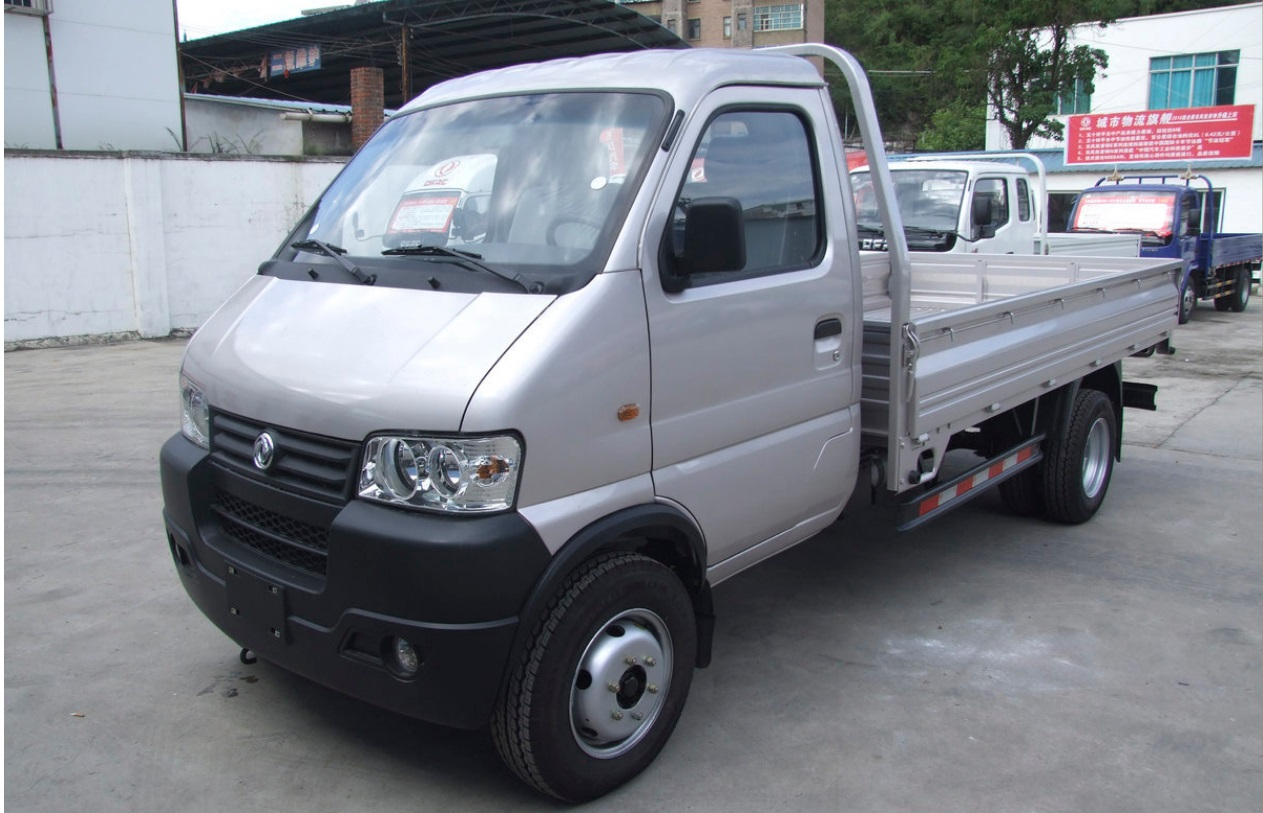truck: (158, 37, 1188, 813)
